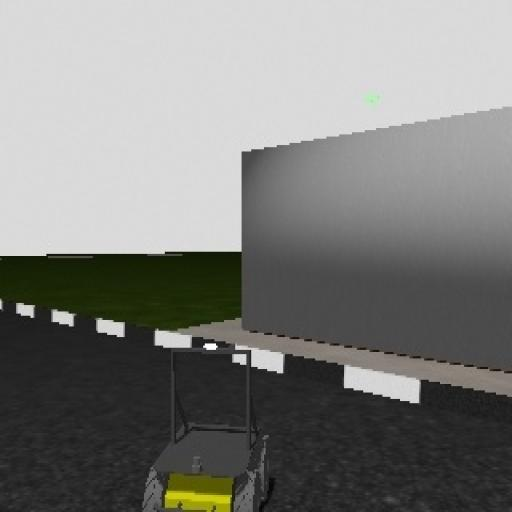huskya200: (151, 336, 272, 512)
